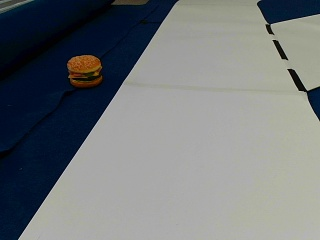burger: (66, 53, 103, 86)
